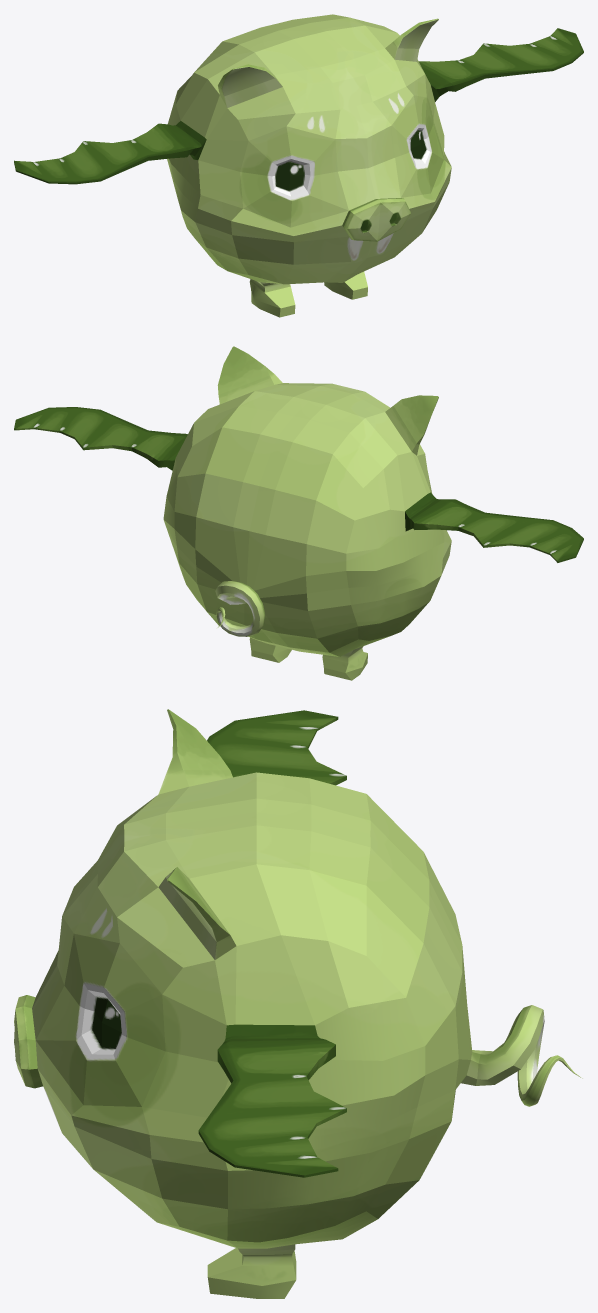
The model's file is PreHistoricFlying.fbx.
3 renders of one model, top to bottom at view 1: azimuth 30°, elevation 25°; view 2: azimuth 150°, elevation 25°; view 3: azimuth 270°, elevation 25°, orthographic. The views are drawn at different scales.
Parts seen in each view (by area): view 1: Flying_Pre_Historic; view 2: Flying_Pre_Historic; view 3: Flying_Pre_Historic.
Boxes of the visible parts, left/top/right/bottom form: Flying_Pre_Historic: left=14, top=14, right=583, bottom=317; Flying_Pre_Historic: left=14, top=346, right=583, bottom=680; Flying_Pre_Historic: left=14, top=709, right=582, bottom=1298.
Size of the model in its own units: 202 by 94.04 by 105.
1 material, 1 textured.
